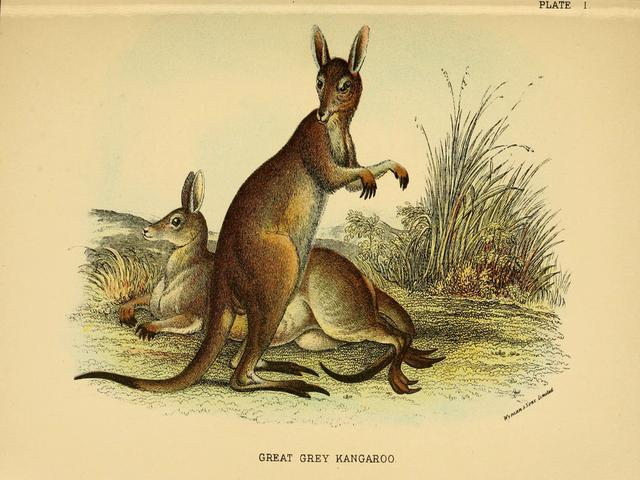kangaroo: (193, 21, 414, 431), (97, 163, 467, 365)
